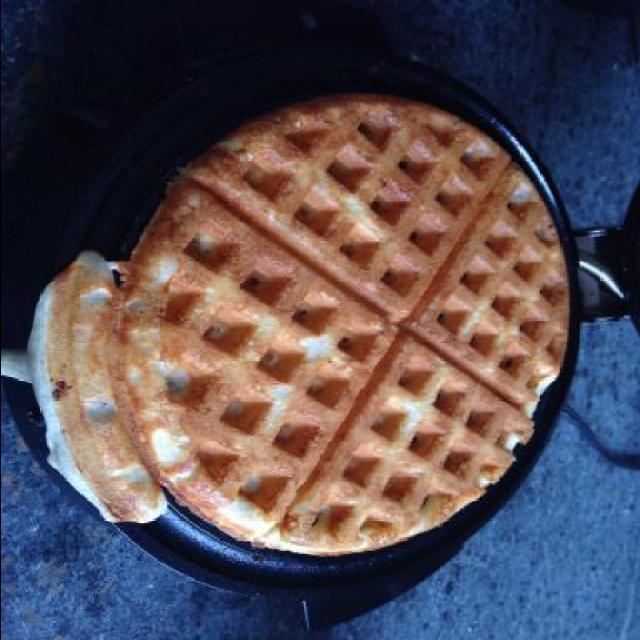Waffle: (28, 92, 568, 556)
